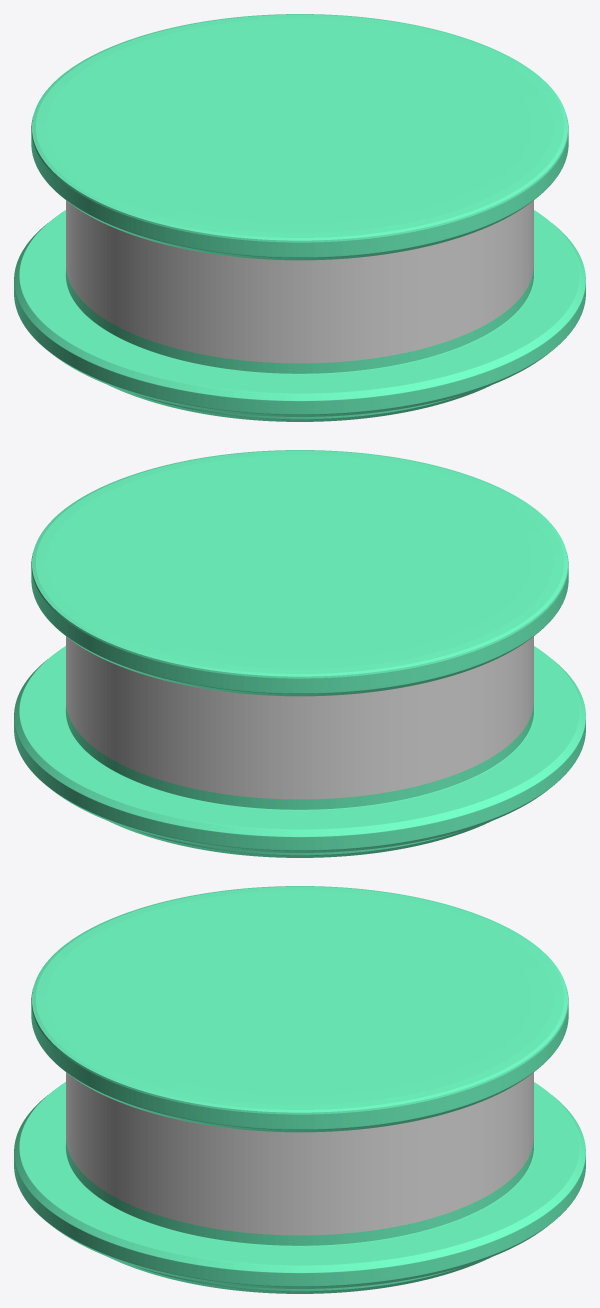
The model's file is tour_tuto.fbx.
The picture shows the model from 3 angles, top to bottom: view 1: azimuth 30°, elevation 25°; view 2: azimuth 150°, elevation 25°; view 3: azimuth 270°, elevation 25°; orthographic projection.
Parts seen in each view (by area): view 1: Tour.005; view 2: Tour.005; view 3: Tour.005.
Part boxes in pixels (box(x1,y1,x2,y2)): Tour.005: box(14, 14, 585, 421); Tour.005: box(14, 450, 585, 857); Tour.005: box(14, 886, 585, 1293).
Bounding box in the file's own units: 3853 × 1403 × 3853.
